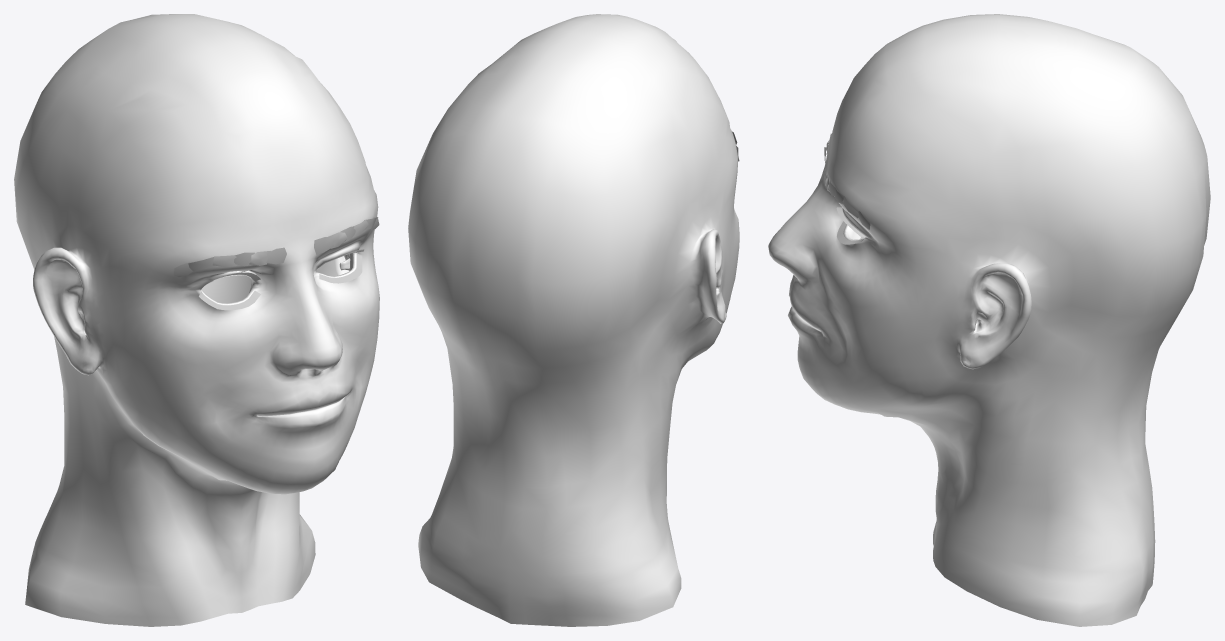
The model's file is eyeWideRight.obj.
3 views of the same model, side by side, from view 1: azimuth 30°, elevation 25°; view 2: azimuth 150°, elevation 25°; view 3: azimuth 270°, elevation 25° (orthographic). The views are drawn at different scales.
Parts seen in each view (by area): view 1: FaceMesh_Plane.003; view 2: FaceMesh_Plane.003; view 3: FaceMesh_Plane.003.
Part boxes in pixels (box(x1,y1,x2,y2)): FaceMesh_Plane.003: box(14, 14, 379, 626); FaceMesh_Plane.003: box(408, 14, 739, 626); FaceMesh_Plane.003: box(768, 14, 1210, 626).
Size of the model in its own units: 1.54 by 2.71 by 1.94.
Materials: 5 (1 with a texture image).
